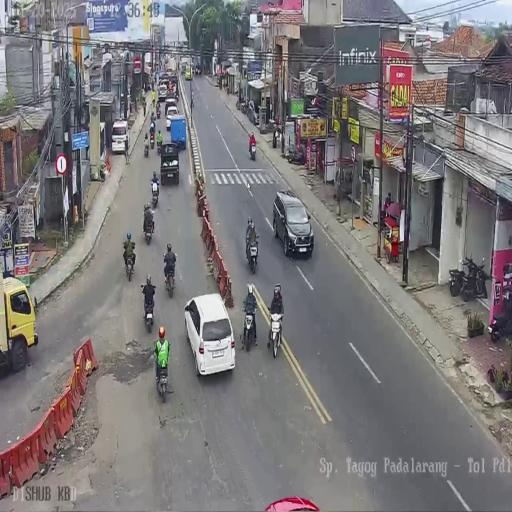car: (184, 294, 236, 378), (271, 191, 313, 259), (160, 144, 181, 185), (264, 496, 321, 511), (111, 118, 129, 154), (166, 92, 177, 108), (159, 76, 169, 90)
motorcycle: (460, 254, 488, 302), (488, 293, 511, 342), (154, 350, 170, 401), (241, 302, 257, 351), (269, 312, 283, 358), (142, 289, 156, 333), (246, 234, 260, 274), (448, 268, 466, 297), (164, 262, 176, 297), (286, 145, 306, 165), (124, 248, 135, 280), (272, 123, 282, 149), (150, 183, 159, 207), (144, 218, 152, 244), (249, 138, 256, 160), (240, 98, 249, 115), (149, 129, 155, 149), (156, 138, 162, 155), (144, 138, 149, 158), (236, 97, 242, 110), (142, 100, 146, 117), (156, 106, 161, 119)
truck: (0, 276, 37, 375), (169, 116, 187, 151), (180, 56, 190, 76), (166, 56, 177, 74)
